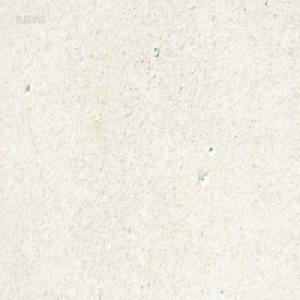Washer: (152, 44, 158, 56)
